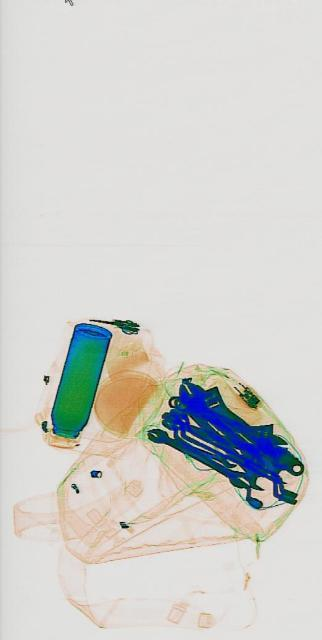Wrench: (174, 362, 305, 490), (146, 422, 238, 484), (215, 428, 268, 498)
